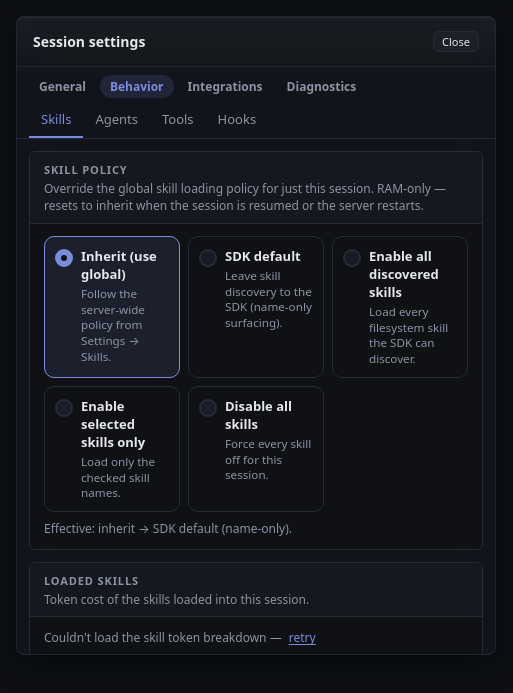
Test: SettingsPanel Context / Skills tab split › offers a retry on the Skills tab when the detailed fetch fails, and recovers
Click the button with class "settings-reset-link" at (300, 638), box [285, 629, 316, 646]
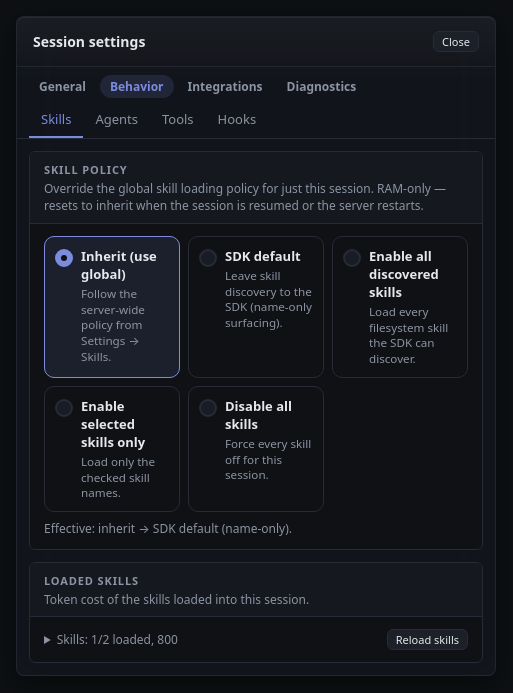
Expected: the text "Skills:" is shown, [57, 631, 178, 648]
Expected: the text "Couldn't load the skill token breakdown" is gone
